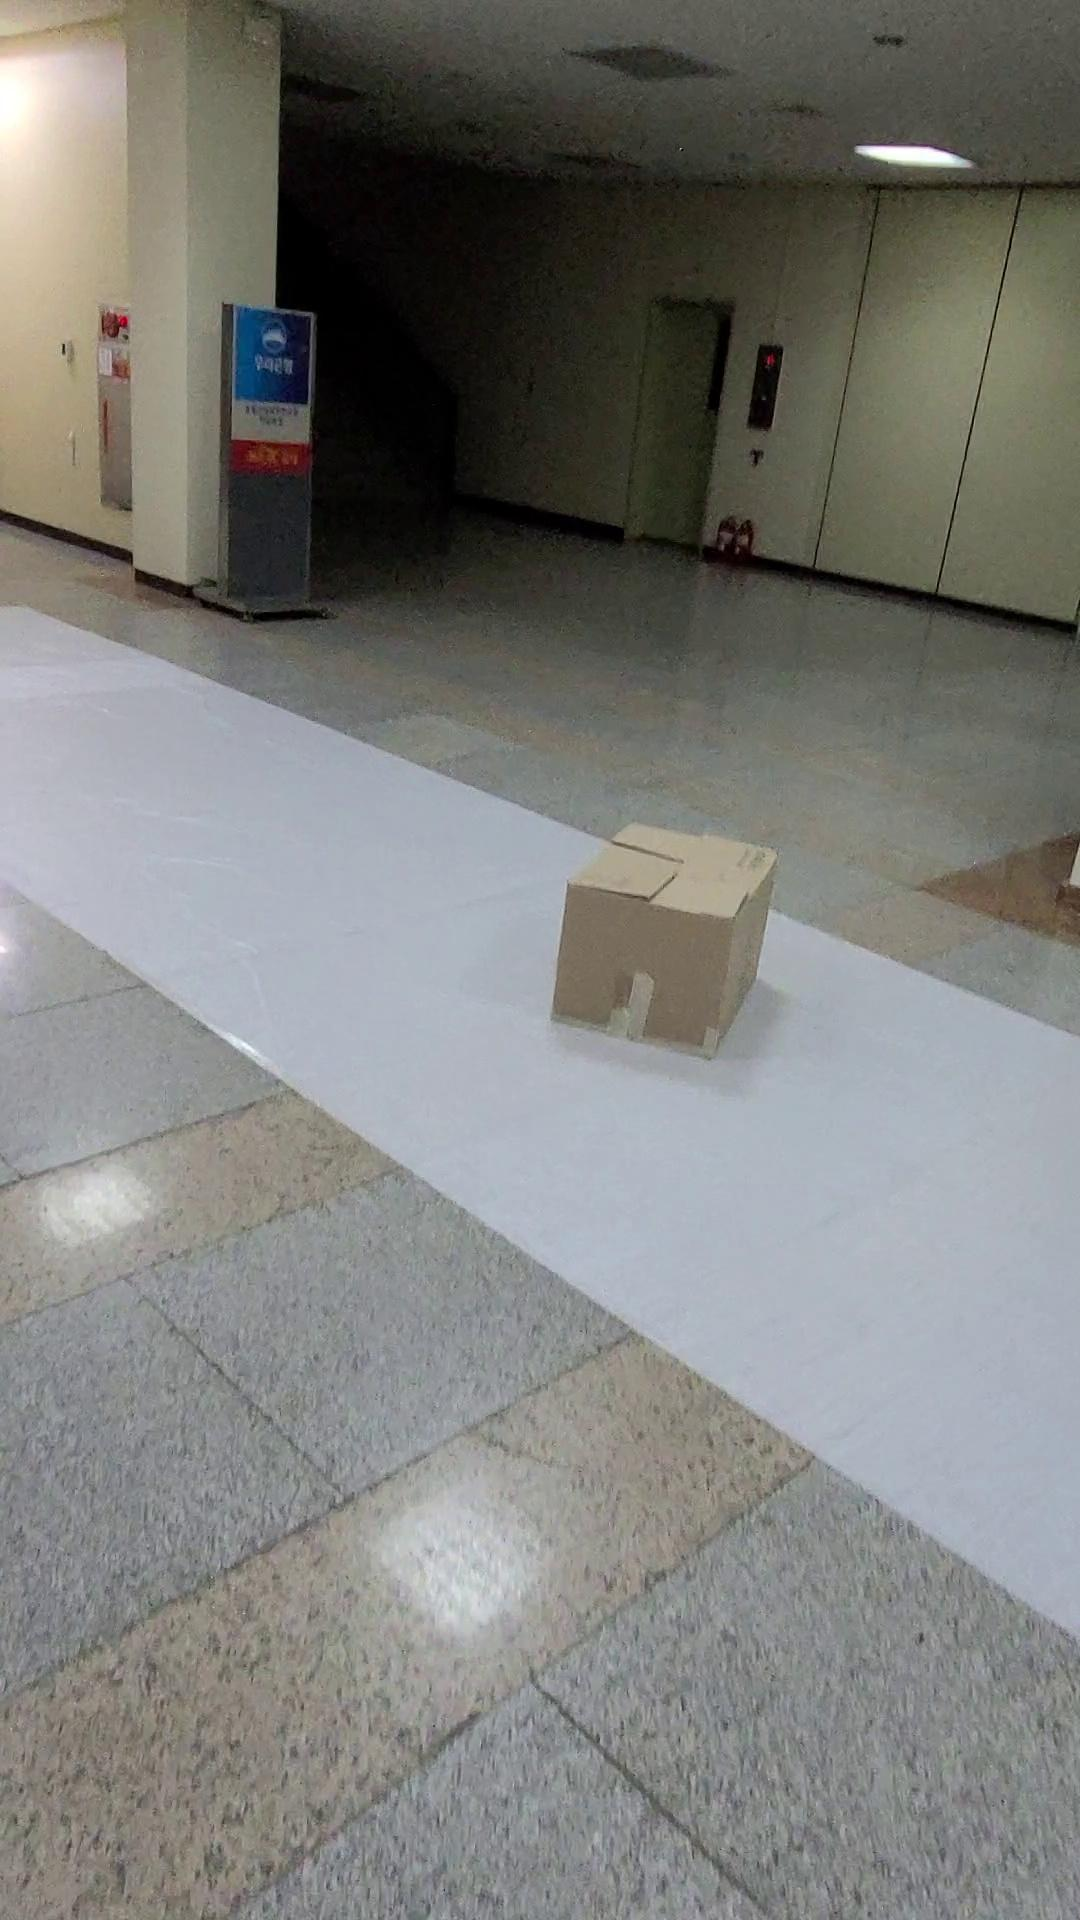Box: (533, 814, 793, 1088)
